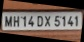character: (43, 15, 51, 28), (4, 15, 12, 27), (36, 15, 44, 27), (53, 15, 60, 27), (67, 15, 74, 27), (13, 15, 19, 27), (28, 15, 34, 26), (61, 15, 66, 27), (74, 15, 79, 27), (22, 15, 27, 26)
